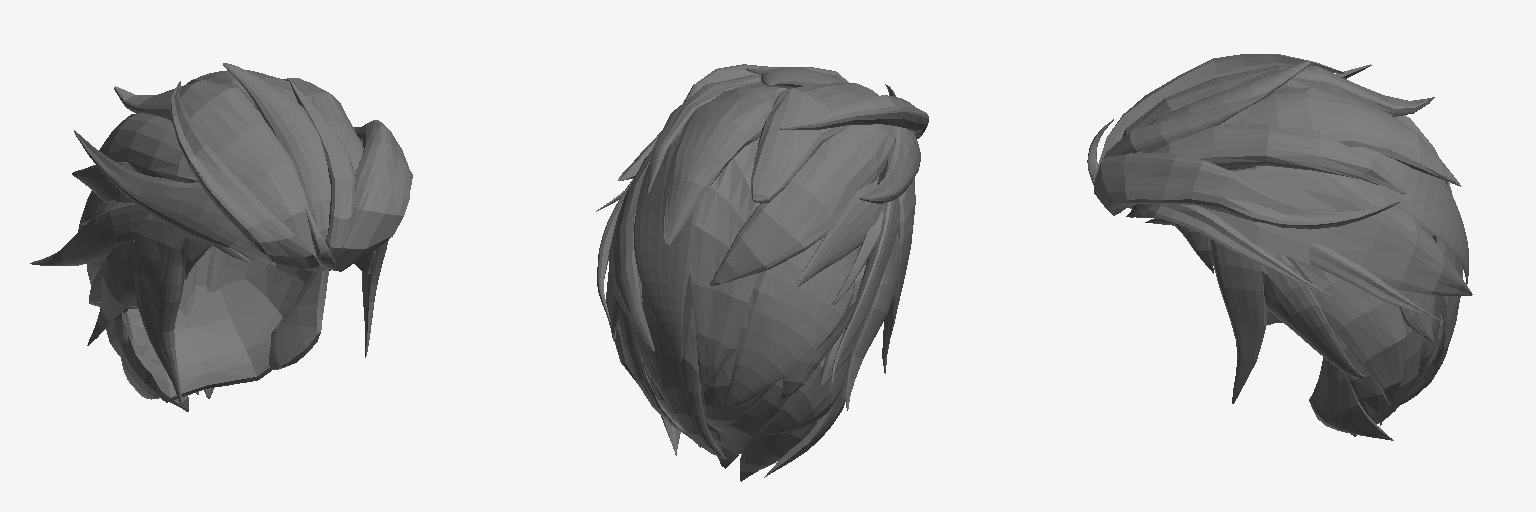
The model's file is LowPoly_Apostador_Cabelo.obj.
3 views of the same model, side by side, from view 1: azimuth 30°, elevation 25°; view 2: azimuth 150°, elevation 25°; view 3: azimuth 270°, elevation 25° (orthographic).
Visible parts, largest first — view 1: LowPoly_Apostador_Cabelo; view 2: LowPoly_Apostador_Cabelo; view 3: LowPoly_Apostador_Cabelo.
Boxes of the visible parts, box(x1,y1,x2,y2) form: LowPoly_Apostador_Cabelo: box(30, 63, 412, 411); LowPoly_Apostador_Cabelo: box(596, 64, 928, 481); LowPoly_Apostador_Cabelo: box(1087, 54, 1472, 440).
Size of the model in its own units: 18.58 by 22.76 by 21.34.